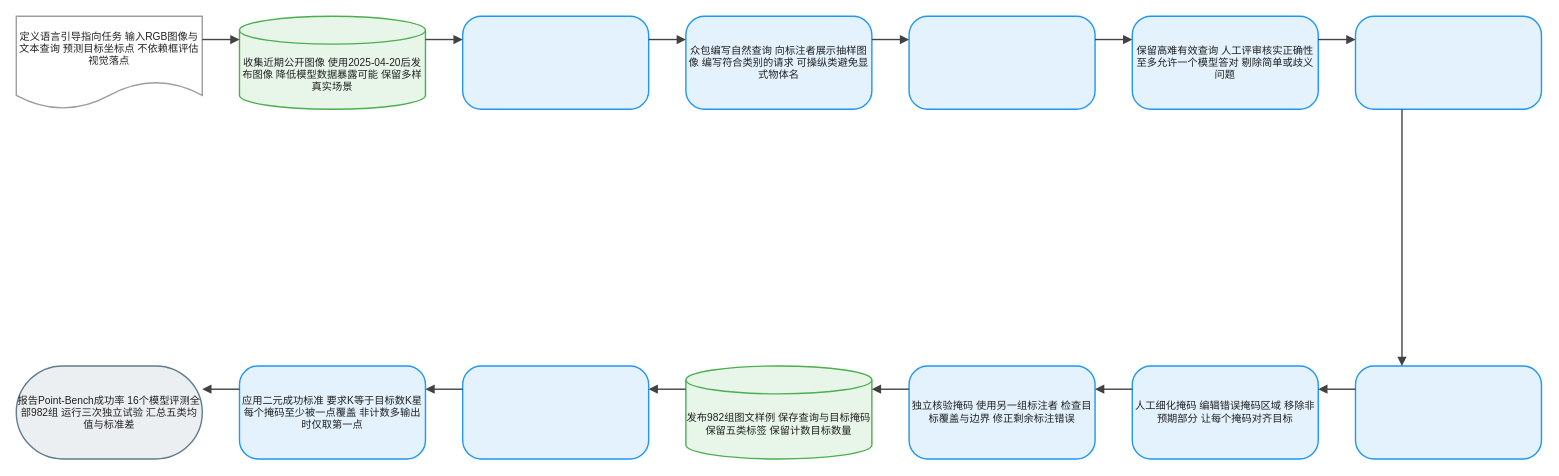
Some shapes in this 1559 by 476 pixel diagram are drawn without their labels. Each missing label, with the centre of its shape:
"均衡五类任务 空间 · 可供性 · 计数 可操纵 · 推理 匹配各类特定场景需求" belongs at [555,62].
"探测查询难度 询问三个匿名多模态模型 评测每条候选查询 把输出交给人工评审" belongs at [1001,62].
"标记目标点 标注者识别全部目标 在预期物体上放置点 保留目标数量" belongs at [1448,62].
"生成初始目标掩码 用标注点提示SAM 分割预期目标物体 产生二元掩码候选" belongs at [1448,412].
"运行标准零样本指向 要求输出x-y坐标格式 每条查询预测K个点 非计数任务要求一个点" belongs at [555,412].
